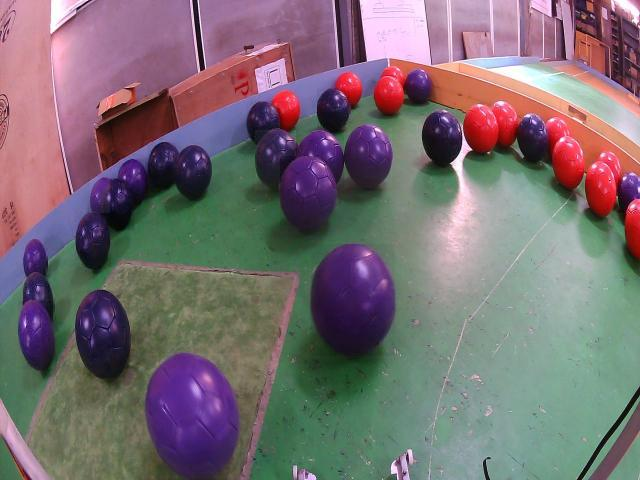jambhalya: (145, 354, 240, 478), (311, 245, 395, 356), (280, 156, 336, 231), (344, 124, 392, 188), (296, 130, 344, 182), (19, 302, 54, 369), (118, 159, 148, 204), (23, 238, 47, 277), (405, 69, 432, 103), (619, 172, 639, 213), (90, 177, 110, 213)
kaalyya: (75, 290, 131, 378), (256, 130, 297, 190), (422, 110, 462, 166), (75, 211, 110, 271), (174, 145, 212, 200), (101, 178, 134, 230), (516, 114, 549, 163), (317, 88, 350, 132), (246, 102, 280, 144), (24, 272, 54, 319), (148, 142, 178, 188)
